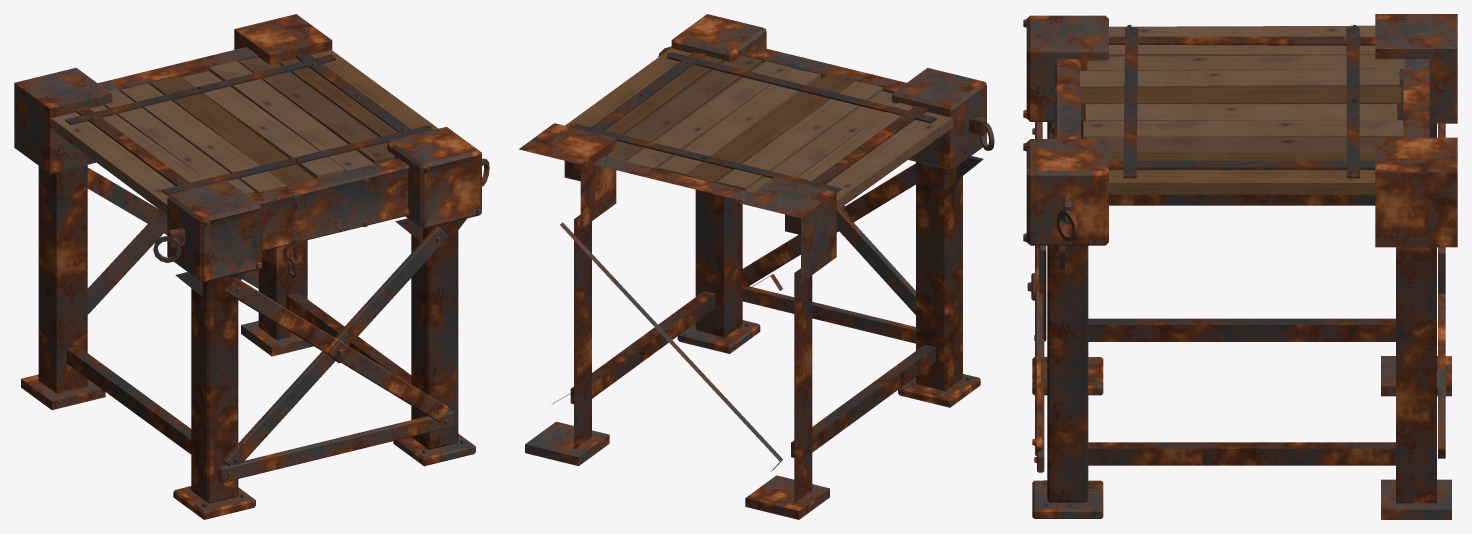
The model's file is Platform_Upper.glb.
The picture shows the model from 3 angles, left to right: view 1: azimuth 30°, elevation 25°; view 2: azimuth 150°, elevation 25°; view 3: azimuth 270°, elevation 25°; orthographic projection. The views are drawn at different scales.
Parts seen in each view (by area): view 1: Platform_Upper; view 2: Platform_Upper; view 3: Platform_Upper.
Boxes of the visible parts, box(x1,y1,x2,y2) form: Platform_Upper: box(14, 14, 489, 519); Platform_Upper: box(519, 14, 994, 519); Platform_Upper: box(1023, 14, 1457, 519).
Bounding box in the file's own units: 2.39 × 2.06 × 2.32.
Materials: 4 (4 with a texture image).
